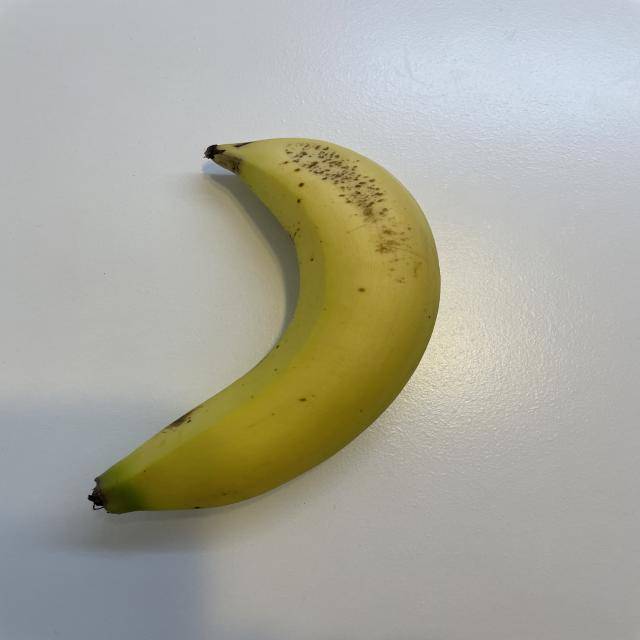Banana: (92, 133, 440, 518)
